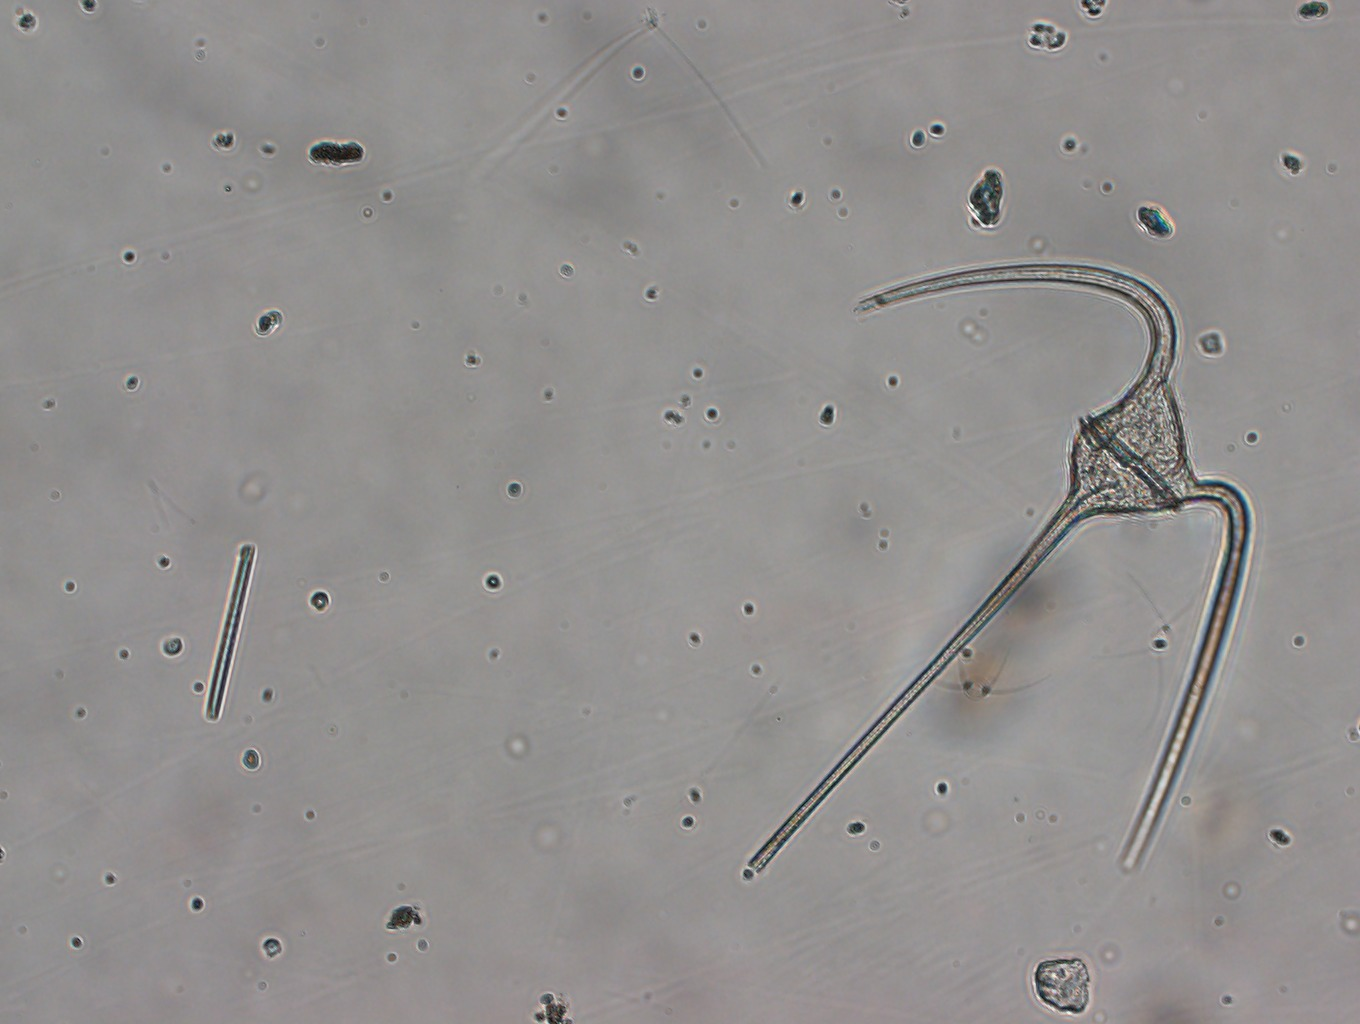ceratium trichoceros: (724, 258, 1259, 881)
